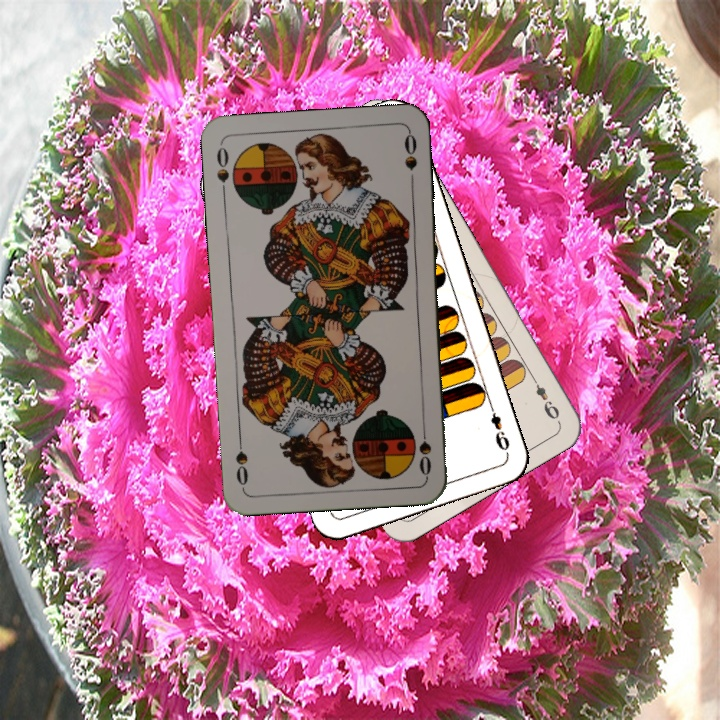E9: (526, 370, 563, 422), (484, 398, 512, 456)
SO: (212, 140, 231, 200), (415, 419, 434, 478)
